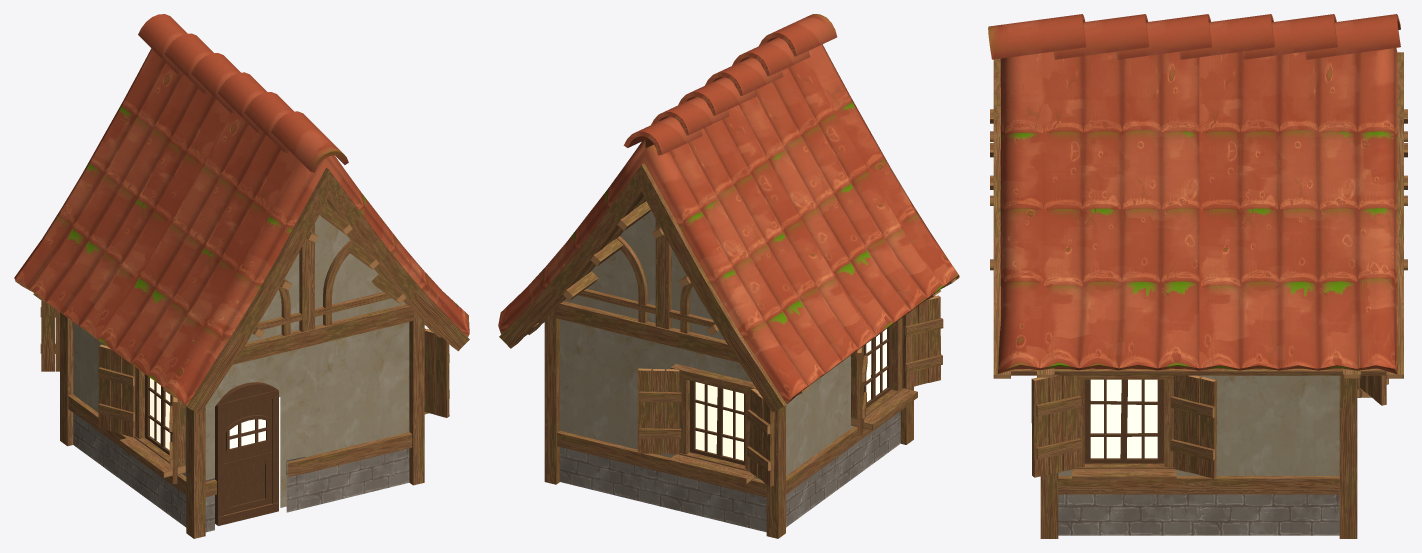
File: kit-cottage.glb
3 renders of one model, left to right at view 1: azimuth 30°, elevation 25°; view 2: azimuth 150°, elevation 25°; view 3: azimuth 270°, elevation 25°, orthographic. The views are drawn at different scales.
Visible parts, largest first — view 1: house; view 2: house; view 3: house.
Boxes of the visible parts, x1=… form: house: x1=14, y1=14, x2=469, y2=538; house: x1=498, y1=14, x2=959, y2=538; house: x1=988, y1=14, x2=1407, y2=538.
Size of the model in its own units: 5.51 by 6.73 by 5.62.
8 materials, 7 textured.
